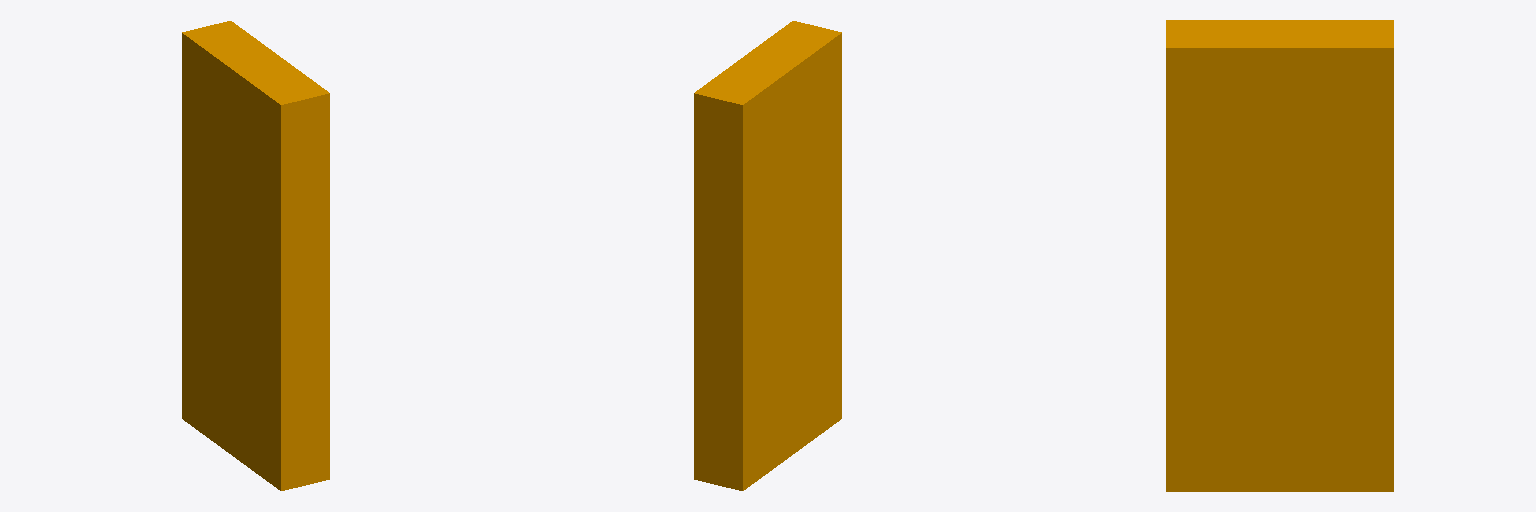
The robot description file, URDF, robot "S_Block":
<?xml version="1.0" ?>
<robot name="S_Block">

<link name="base_link">
  <inertial>
    <origin xyz="0.0 0.0 1.5" rpy="0 0 0"/>
    <mass value="9420.000000000002"/>
    <inertia ixx="7850.0" iyy="7190.6" izz="910.6" ixy="0.0" iyz="0.0" ixz="0.0"/>
  </inertial>
  <visual>
    <origin xyz="0 0 0" rpy="0 0 0"/>
    <geometry>
      <mesh filename="meshes/s_wall.stl" scale="0.0005 0.0007 0.0005"/>
    </geometry>
    <material name="silver"/>
  </visual>
  <collision>
    <origin xyz="0 0 0" rpy="0 0 0"/>
    <geometry>
      <mesh filename="meshes/s_wall.stl" scale="0.0005 0.0007 0.0005"/>
    </geometry>
  </collision>
</link>

</robot>

--- What the picture shows (computed from the rendered views, not written in the file) ---
The picture shows the robot from 3 angles, left to right: view 1: azimuth 30°, elevation 25°; view 2: azimuth 150°, elevation 25°; view 3: azimuth 270°, elevation 25°; orthographic projection.
Model S_Block with 1 links and 0 joints (none), rooted at base_link, posed all joints at 0.
Visible links, largest first — view 1: base_link; view 2: base_link; view 3: base_link.
Boxes of the visible links, <box> form: base_link: <box>182,21,329,490</box>; base_link: <box>694,21,841,490</box>; base_link: <box>1166,20,1393,491</box>.
Size in the robot's own frame: 0.2 by 0.7 by 1.5 metres.
1 mesh visuals loaded from 1 distinct referenced files (1 binary STL).